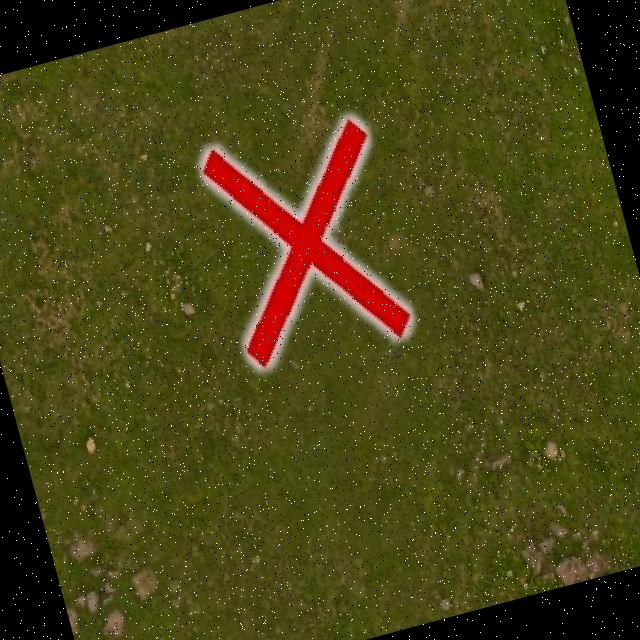x_marker: (194, 110, 416, 372)
